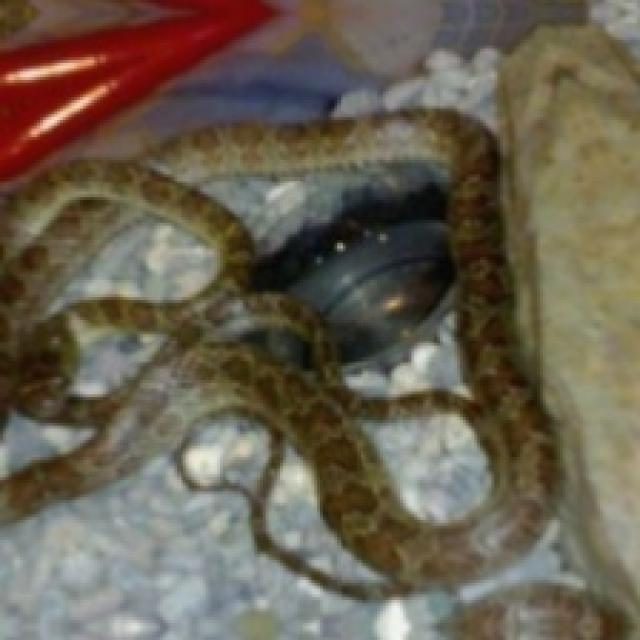mullers wolf snake: (0, 111, 557, 597), (340, 311, 463, 400), (397, 411, 483, 523)
